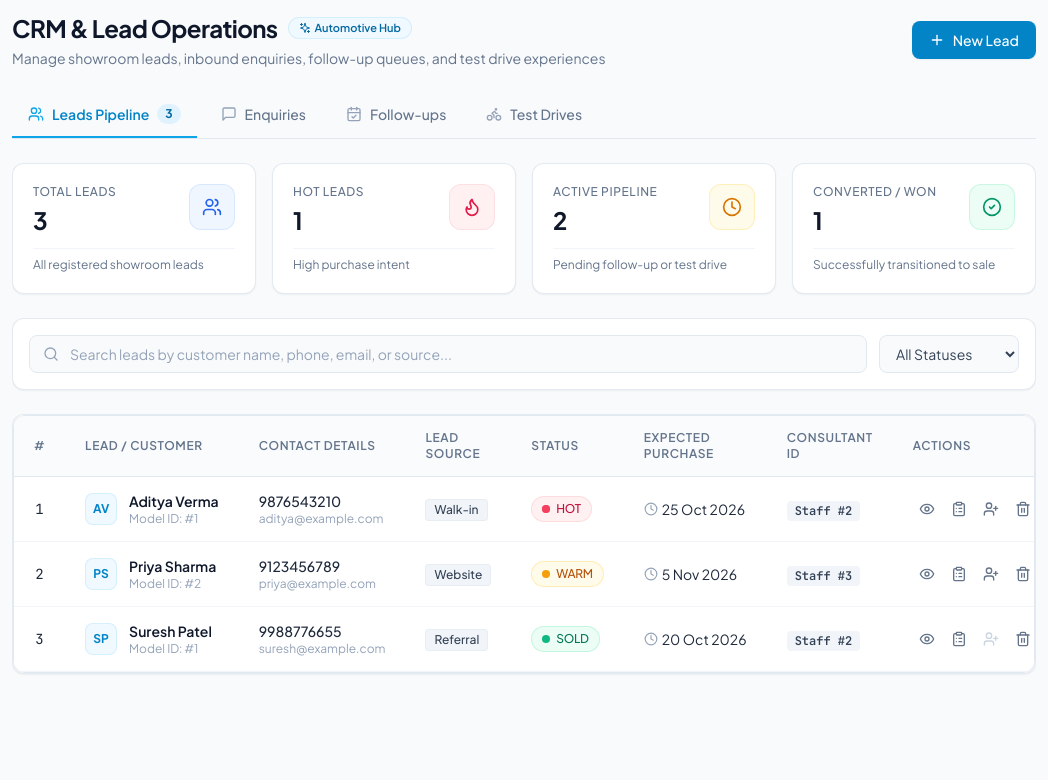
it: CrmPage (Phase 3 Redesign) › renders empty state when search produces no matching leads
Type "Nonexistent Customer" into the field with placeholder "Search leads by customer name, phone, email, or source..." at (448, 354), box [29,335,867,373]
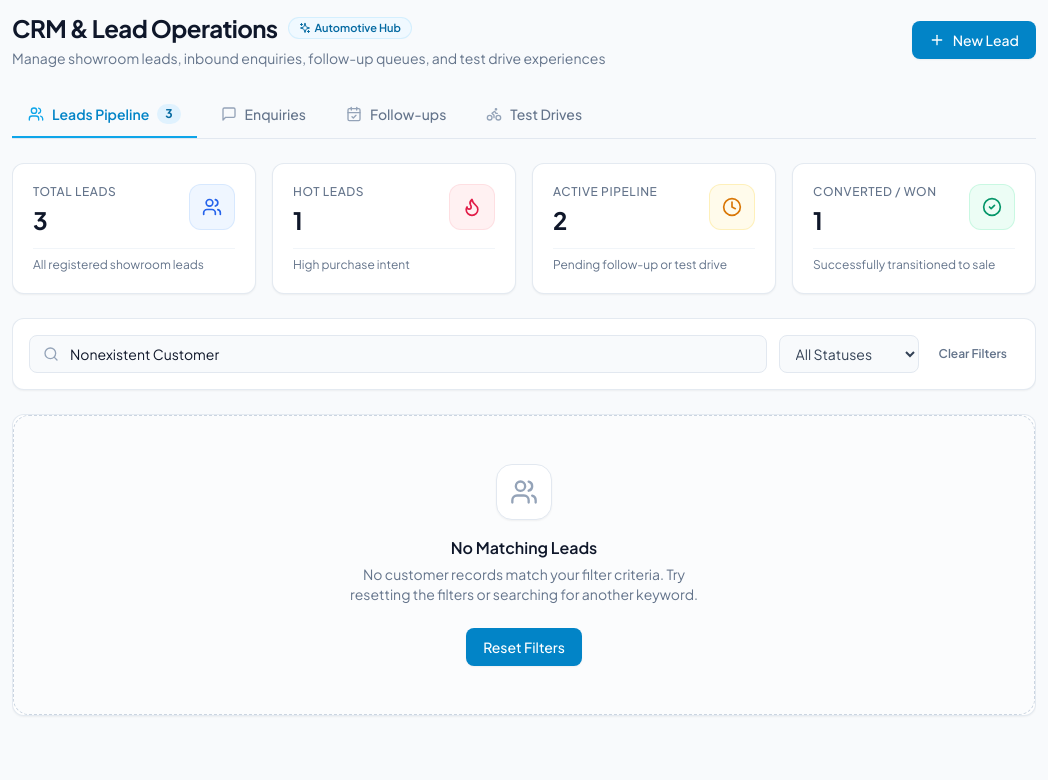
Result: the heading "No Matching Leads" is shown at [451,536,597,560]
Result: the button "Reset Filters" is shown at [466,628,582,666]
